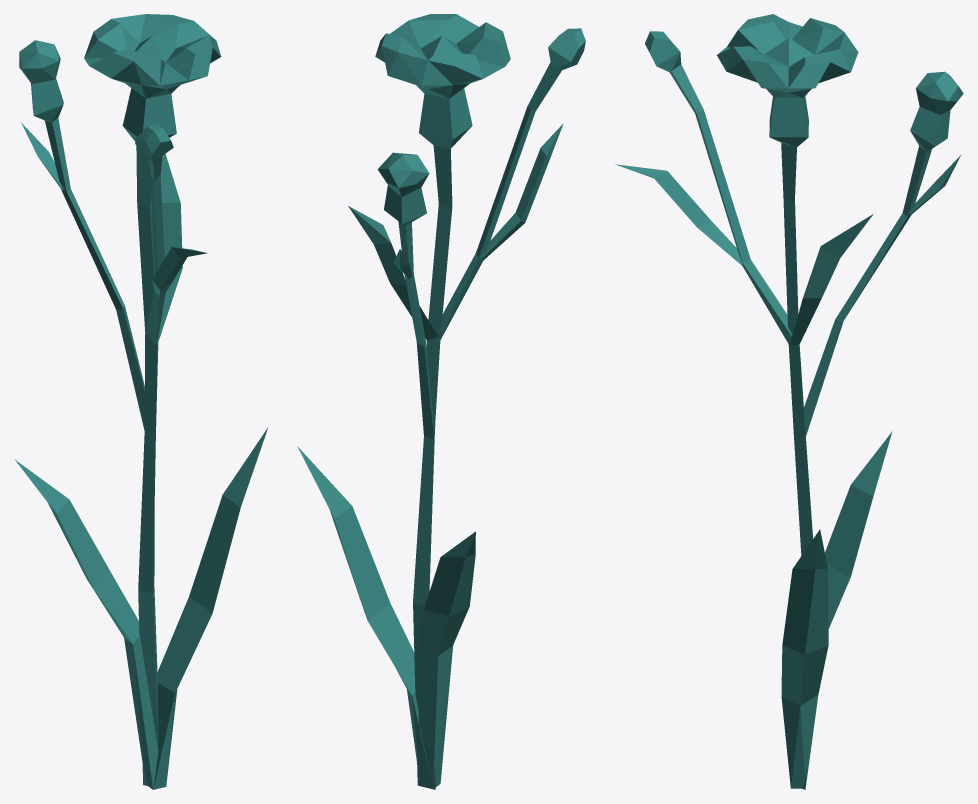
Rendered from SM_Flower_Cornflower_Single_Mature_A.fbx.
3 renders of one model, left to right at view 1: azimuth 30°, elevation 25°; view 2: azimuth 150°, elevation 25°; view 3: azimuth 270°, elevation 25°, orthographic.
Visible parts, largest first — view 1: flower-cornflower-single-mature-a; view 2: flower-cornflower-single-mature-a; view 3: flower-cornflower-single-mature-a.
Boxes of the visible parts, x1,y1,x2,y2 form: flower-cornflower-single-mature-a: (15,14,268,789); flower-cornflower-single-mature-a: (297,14,585,789); flower-cornflower-single-mature-a: (615,14,963,789).
Size of the model in its own units: 0.2002 by 0.6669 by 0.283.
